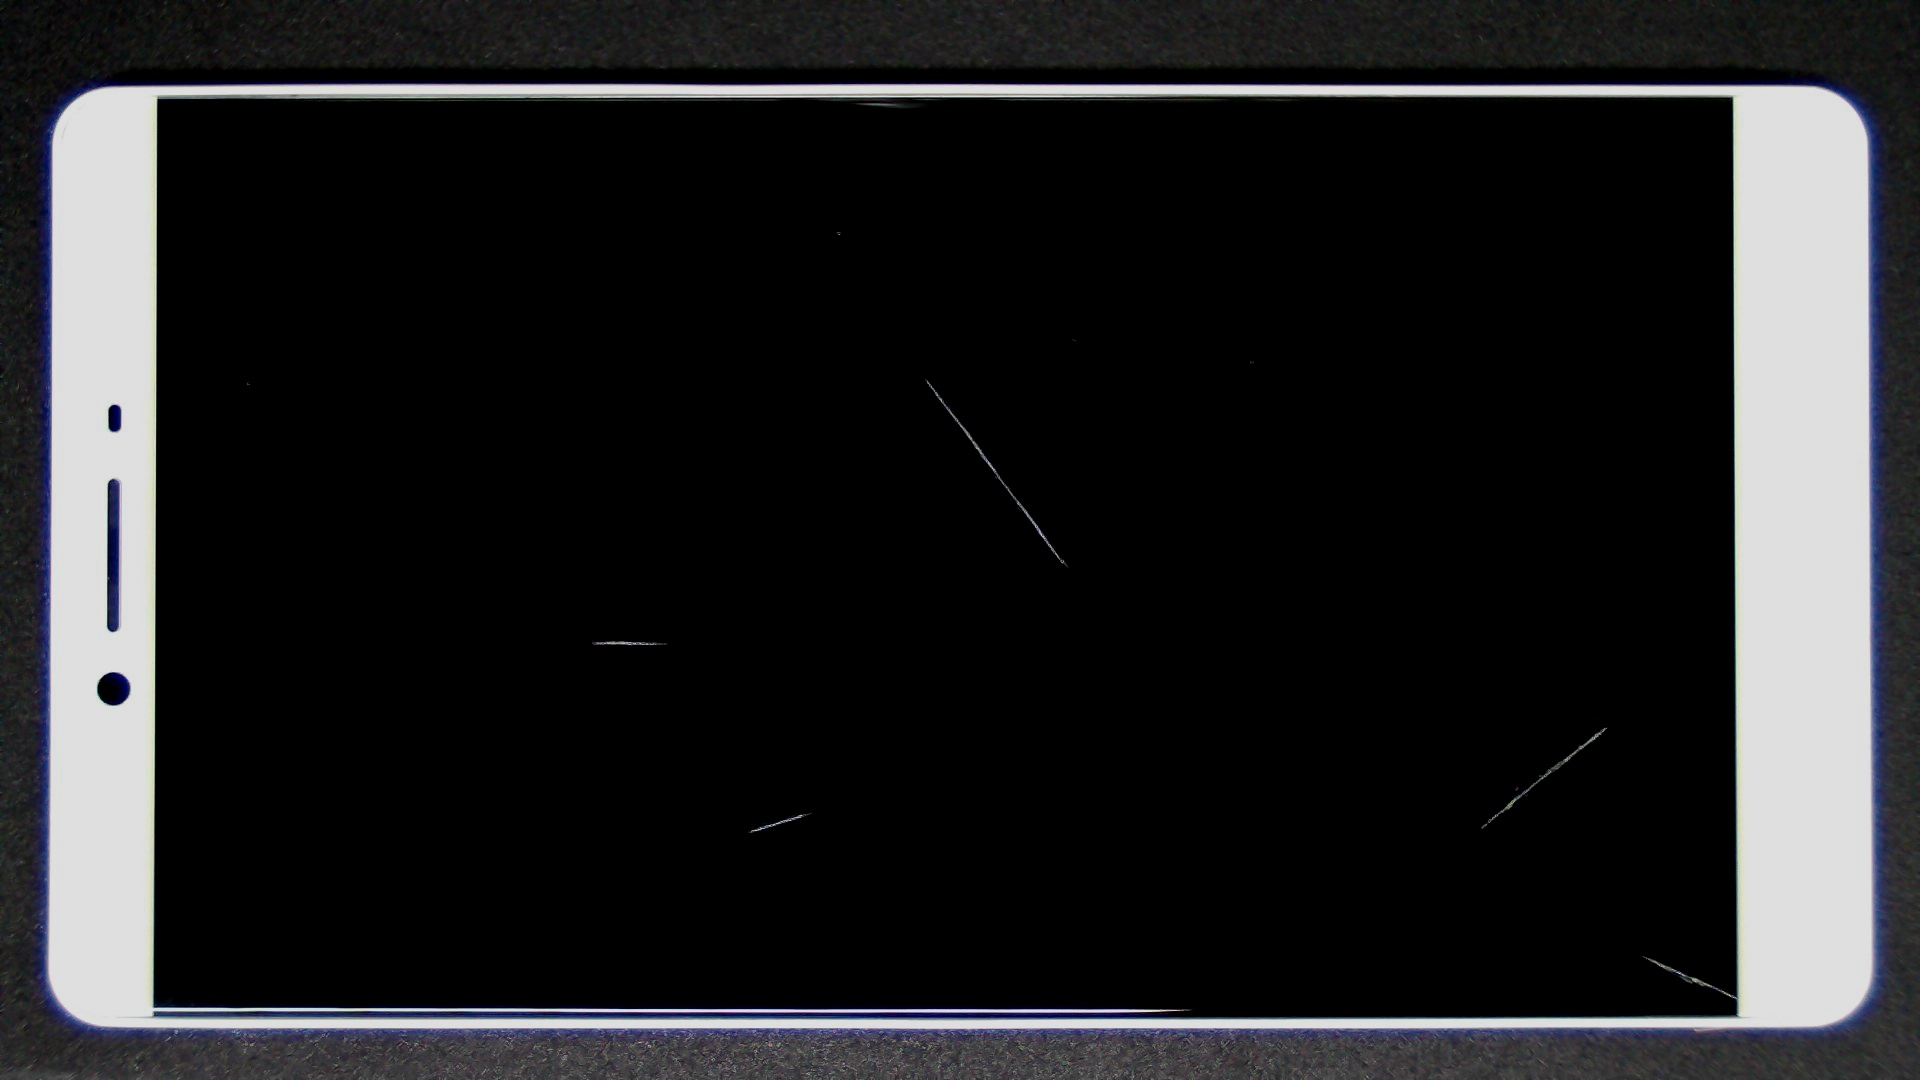oil: (804, 361, 1920, 1080), (822, 477, 1920, 1080), (407, 405, 1218, 1080), (295, 319, 885, 960), (463, 189, 1389, 566)
